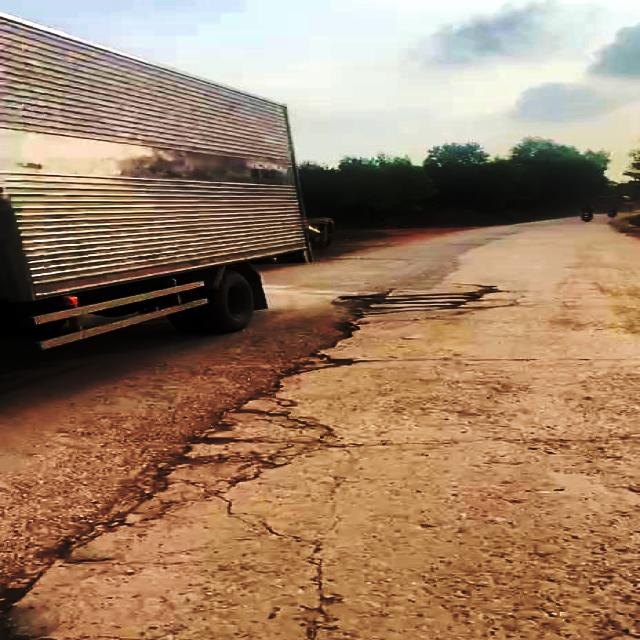pothole: (277, 350, 360, 378)
